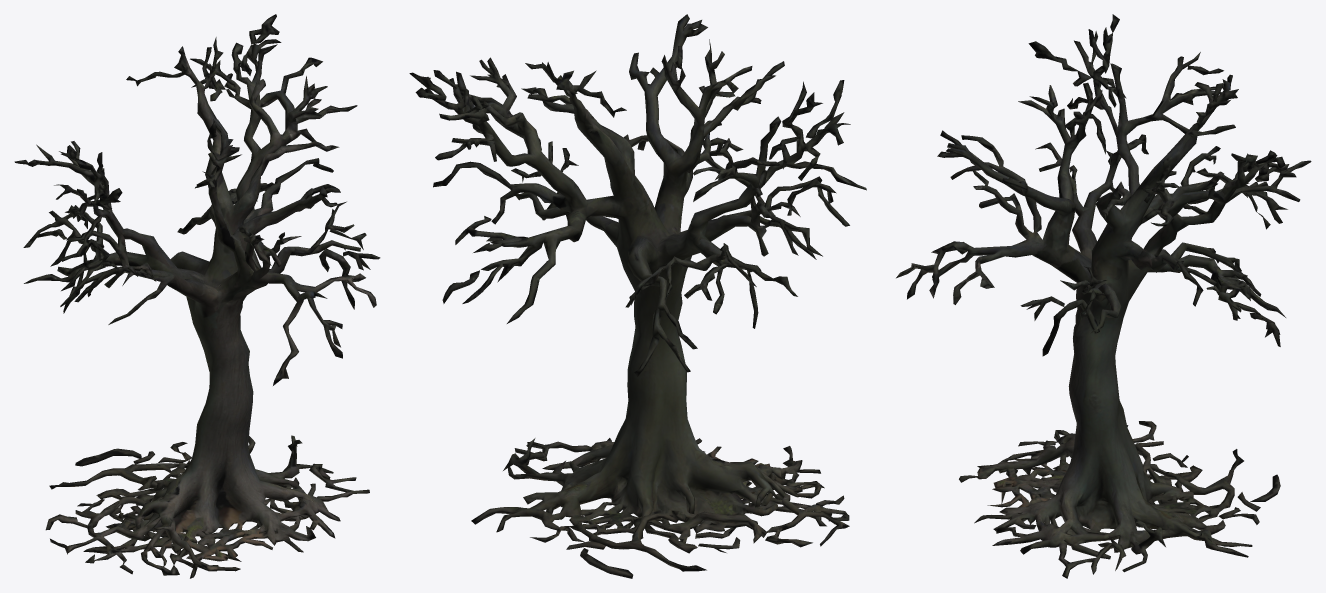
File: Arbol2.glb
The picture shows the model from 3 angles, left to right: view 1: azimuth 30°, elevation 25°; view 2: azimuth 150°, elevation 25°; view 3: azimuth 270°, elevation 25°; orthographic projection. The views are drawn at different scales.
Parts seen in each view (by area): view 1: Mesh_0; view 2: Mesh_0; view 3: Mesh_0.
Boxes of the visible parts, x1,y1,x2,y2 form: Mesh_0: (14, 14, 380, 578); Mesh_0: (409, 14, 866, 578); Mesh_0: (896, 14, 1311, 578).
Bounding box in the file's own units: 1.59 × 1.93 × 1.62.
Materials: 1 (1 with a texture image).
